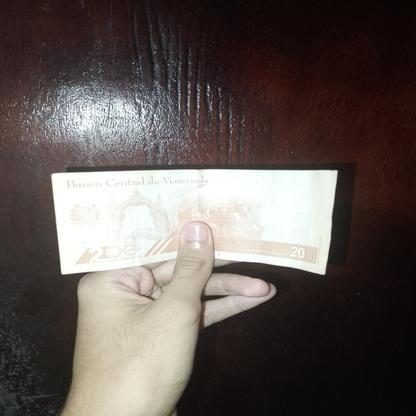twenty-back-vef: (51, 168, 338, 274)
